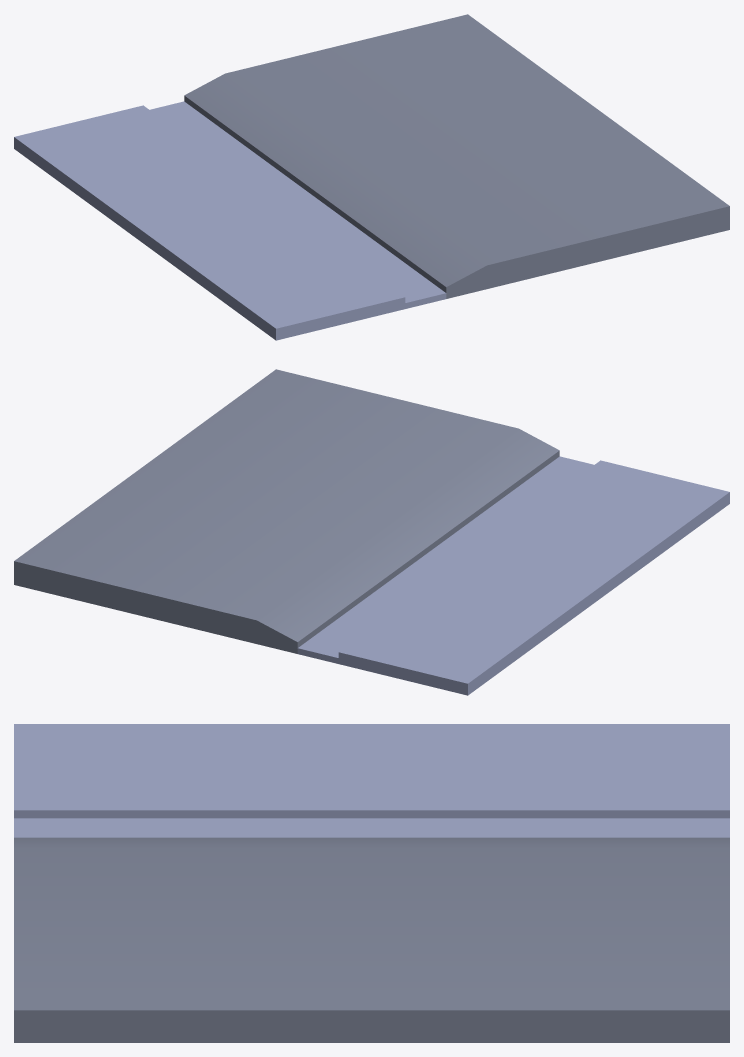
Rendered from road-edge.glb.
The picture shows the model from 3 angles, top to bottom: view 1: azimuth 30°, elevation 25°; view 2: azimuth 150°, elevation 25°; view 3: azimuth 270°, elevation 25°; orthographic projection. The views are drawn at different scales.
Parts seen in each view (by area): view 1: road-edge; view 2: road-edge; view 3: road-edge.
Part boxes in pixels (x1,y1,x2,y2): road-edge: (14, 14, 729, 340); road-edge: (14, 369, 729, 695); road-edge: (14, 724, 729, 1042).
Bounding box in the file's own units: 1 × 0.0501 × 1.
1 material, 1 textured.
